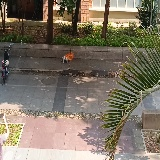fire: (65, 52, 73, 60)
